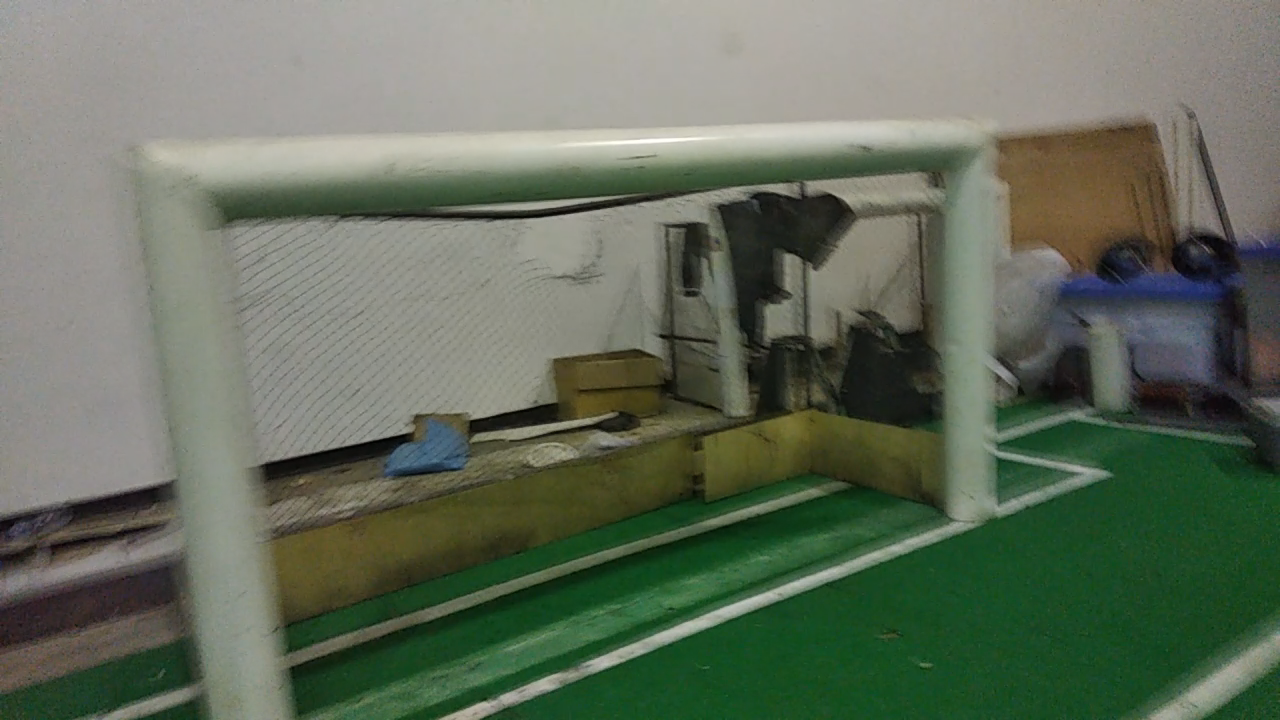gawang: (115, 121, 1003, 717)
